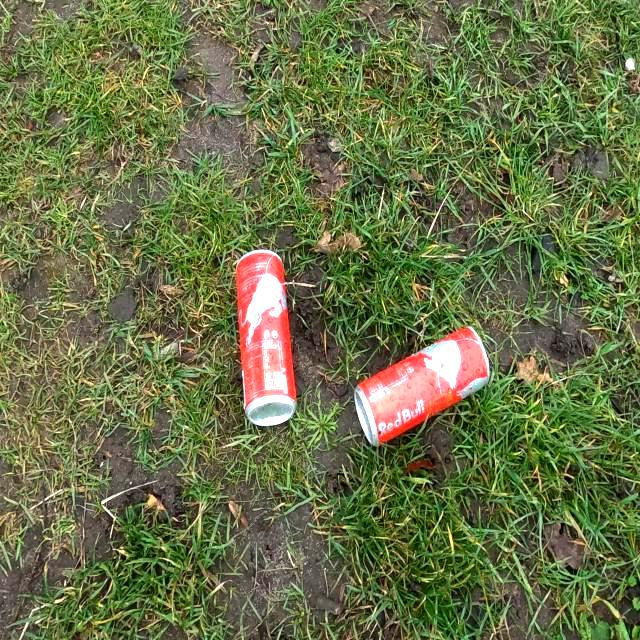Metal: (351, 322, 491, 450), (234, 247, 298, 429)
